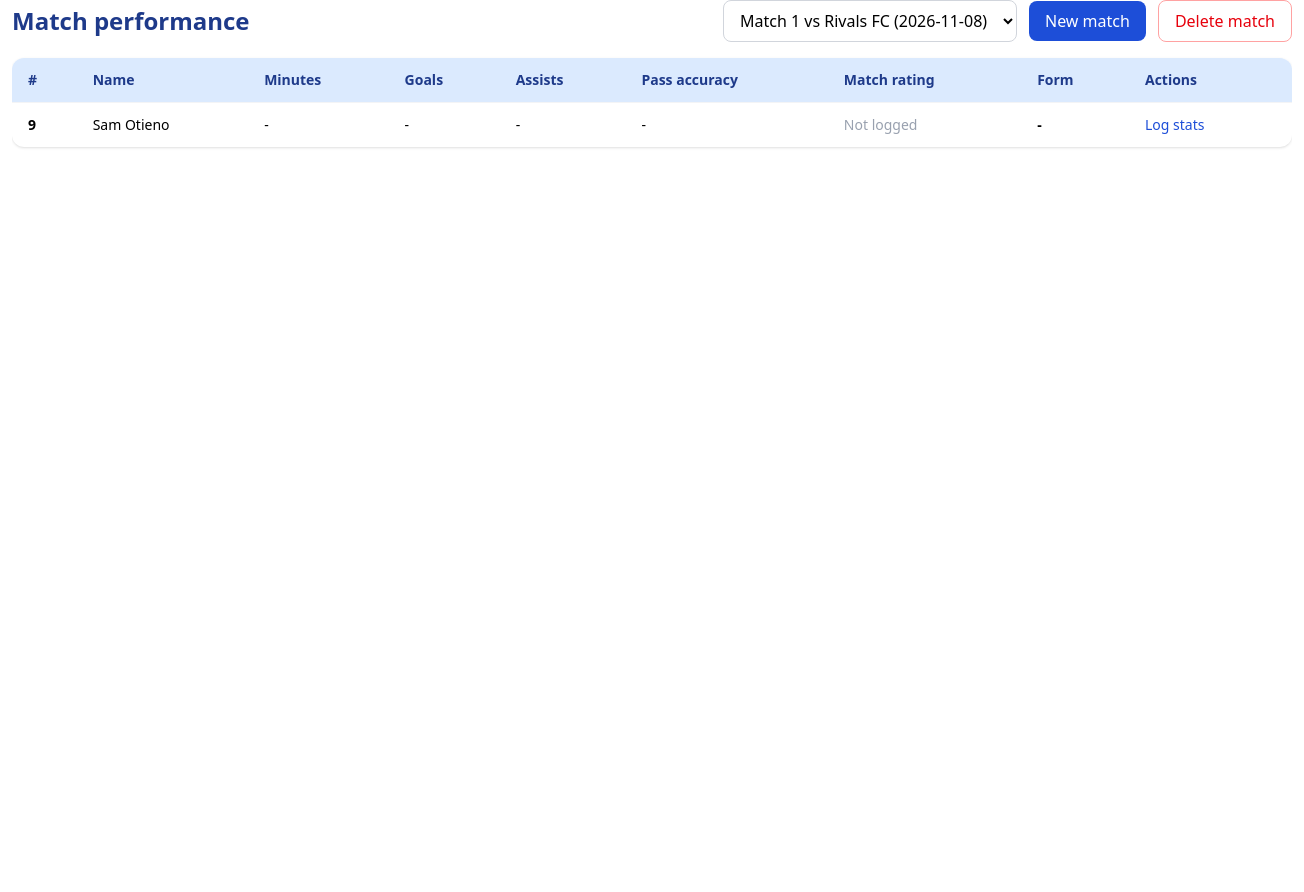
Scenario: logs stats for a player
expect the text "Sam Otieno" is shown: met, box [77, 102, 248, 147]
Click the button "Log stats".
click(1175, 125)  # box [1145, 115, 1204, 135]
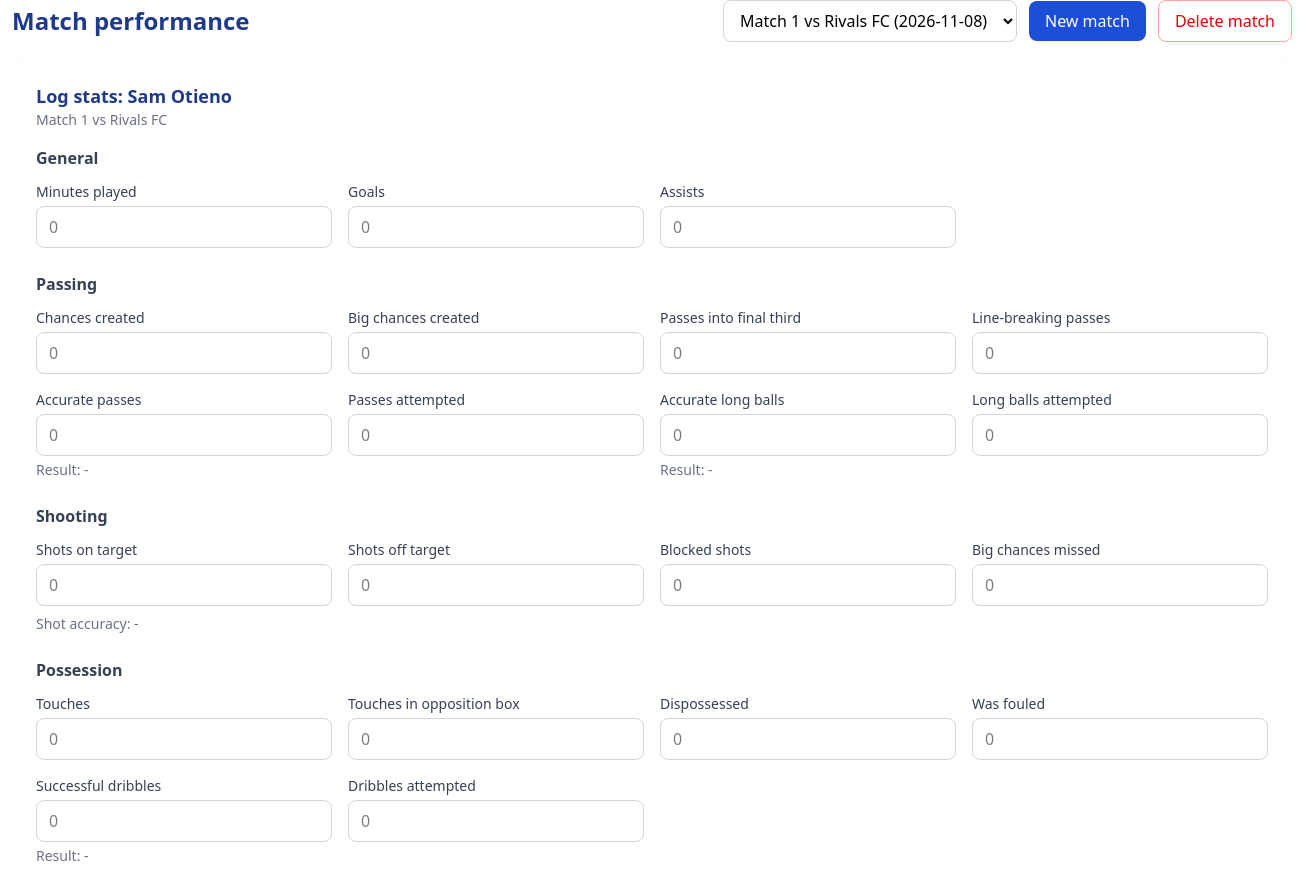
Type "90" into the number field labelled "Minutes played".
click(184, 227); type("90")  # box [36, 206, 332, 248]
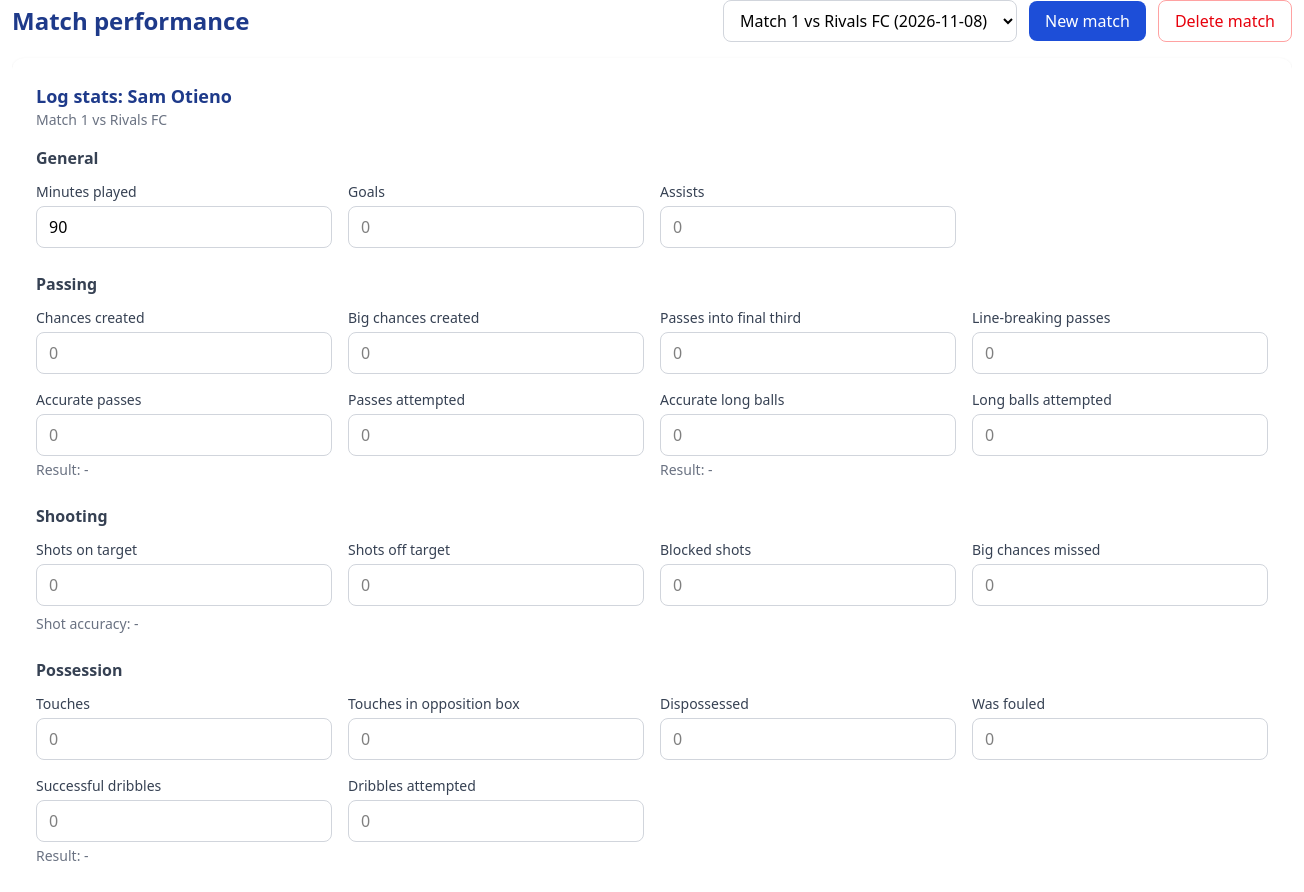
Type "1" into the number field labelled "Goals".
click(496, 227); type("1")  # box [348, 206, 644, 248]
(page scrolled)
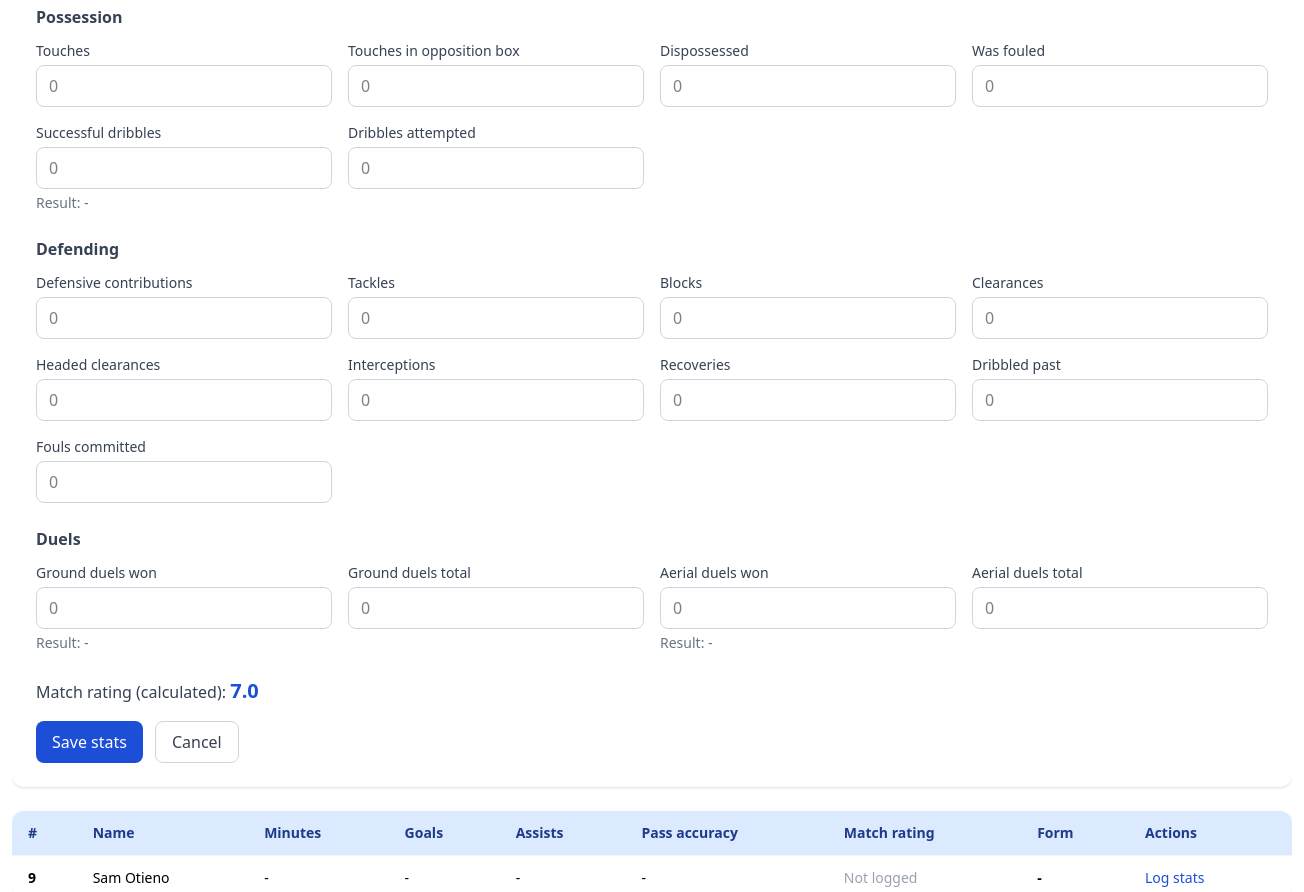
Click the button "Save stats".
click(89, 742)  # box [36, 721, 143, 763]
(page scrolled)
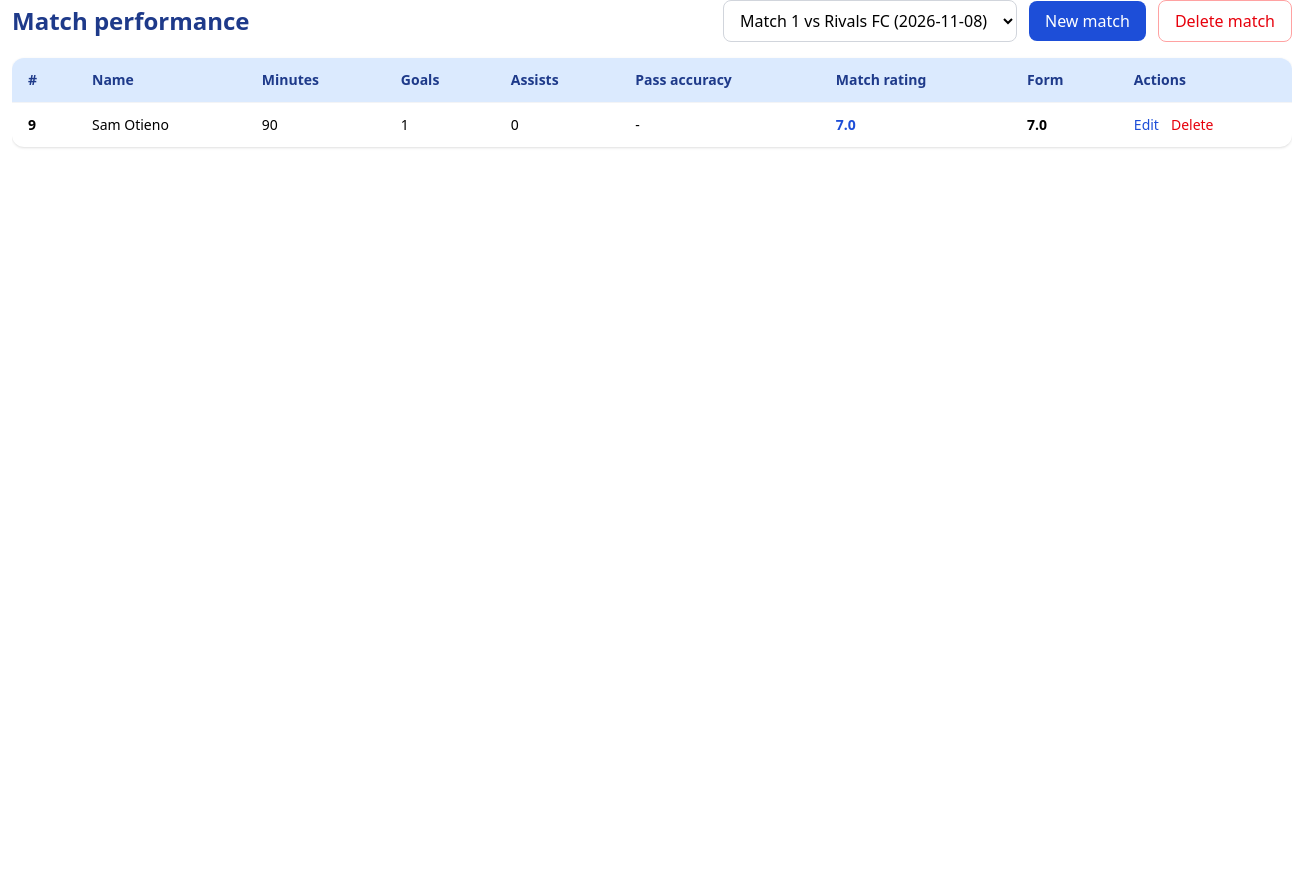
expect the 1st text "7.0" is shown: met, box [820, 102, 1011, 147]
